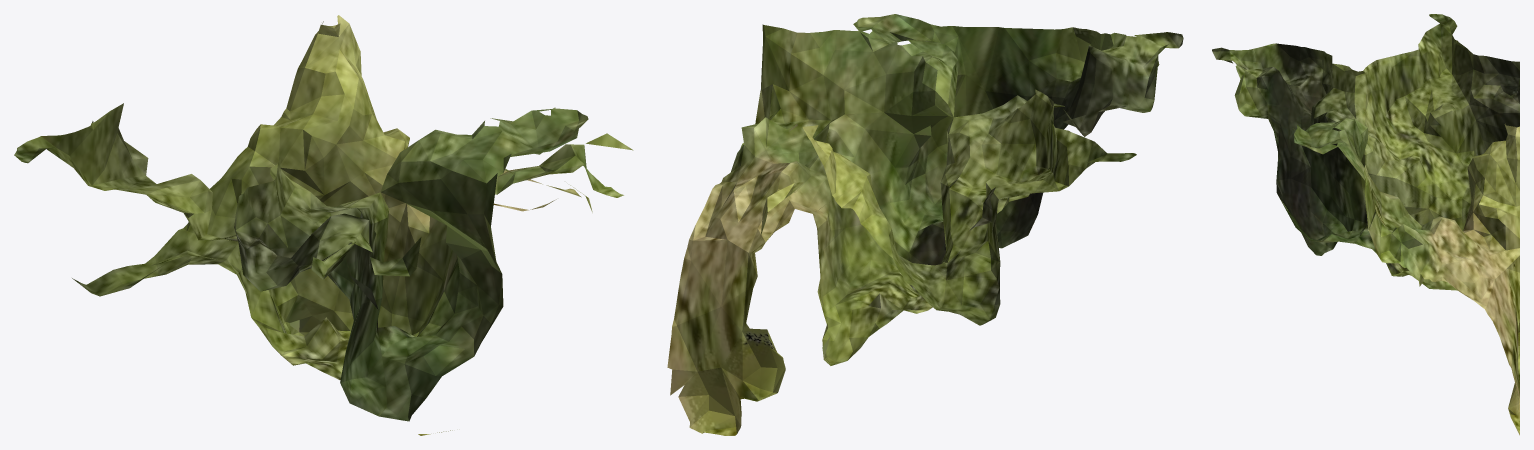
The picture shows the model from 3 angles, left to right: view 1: azimuth 30°, elevation 25°; view 2: azimuth 150°, elevation 25°; view 3: azimuth 270°, elevation 25°; orthographic projection. The views are drawn at different scales.
Bounding box in the file's own units: 5.55 × 4.24 × 4.4.
Materials: 3 (3 with a texture image).
